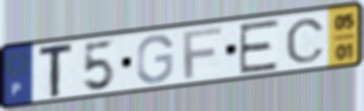5: (82, 38, 117, 93)
C: (284, 17, 327, 65)
E: (237, 17, 282, 76)
F: (181, 25, 224, 80)
G: (134, 33, 175, 86)
T: (37, 40, 76, 100)
